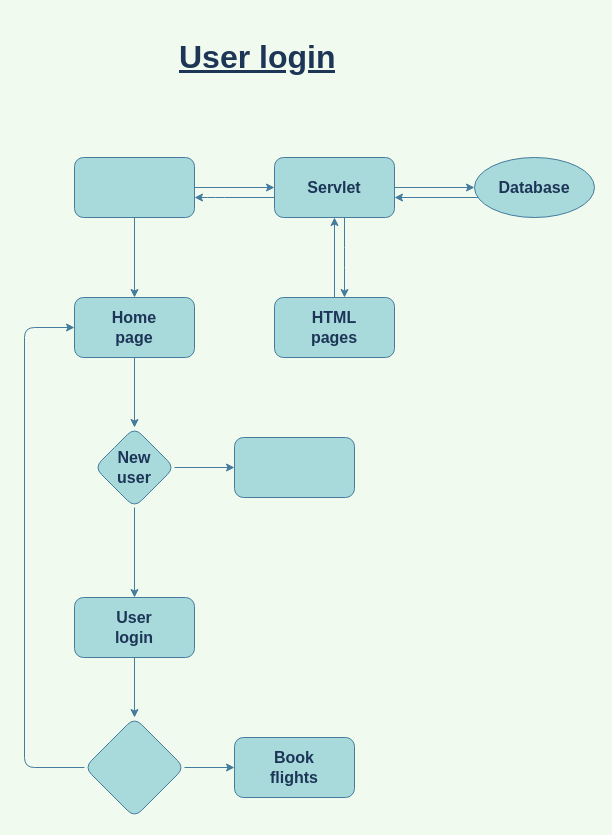
Image size: 612x835. Some labels were removed from this diagram. Each missing label, with the centre of its shape:
"Correct id, password" belongs at pixel 134 767.
"User registration" belongs at pixel 294 467.
"Web Browser" belongs at pixel 134 187.
